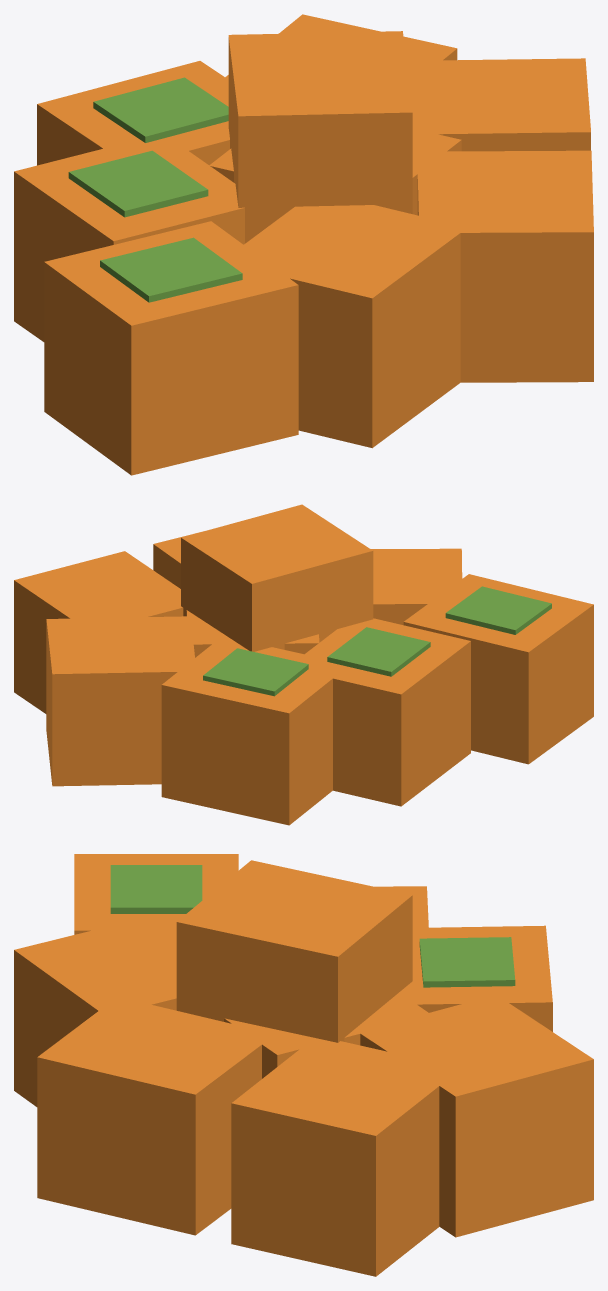
File: FTF_Ingredient_Chopped_Pumpkin.glb
3 renders of one model, top to bottom at view 1: azimuth 30°, elevation 25°; view 2: azimuth 150°, elevation 25°; view 3: azimuth 270°, elevation 25°, orthographic. The views are drawn at different scales.
Visible parts, largest first — view 1: Pumpkin_Piece_00, Pumpkin_Accent_00; view 2: Pumpkin_Piece_00, Pumpkin_Accent_00; view 3: Pumpkin_Piece_00, Pumpkin_Accent_00.
Boxes of the visible parts, x1,y1,x2,y2 form: Pumpkin_Piece_00: (14,14,593,475); Pumpkin_Accent_00: (68,77,242,302); Pumpkin_Piece_00: (14,504,593,825); Pumpkin_Accent_00: (203,586,551,696); Pumpkin_Piece_00: (14,854,593,1276); Pumpkin_Accent_00: (110,865,515,987).
Bounding box in the file's own units: 0.7724 × 0.29 × 0.6716.
